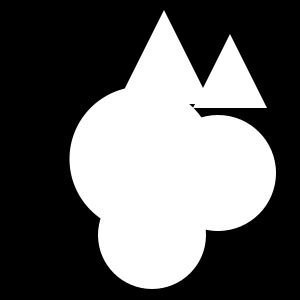rectangle: (70, 86, 214, 232), (160, 115, 276, 231), (98, 181, 206, 289)
triangle: (117, 10, 211, 104), (193, 34, 267, 108)
